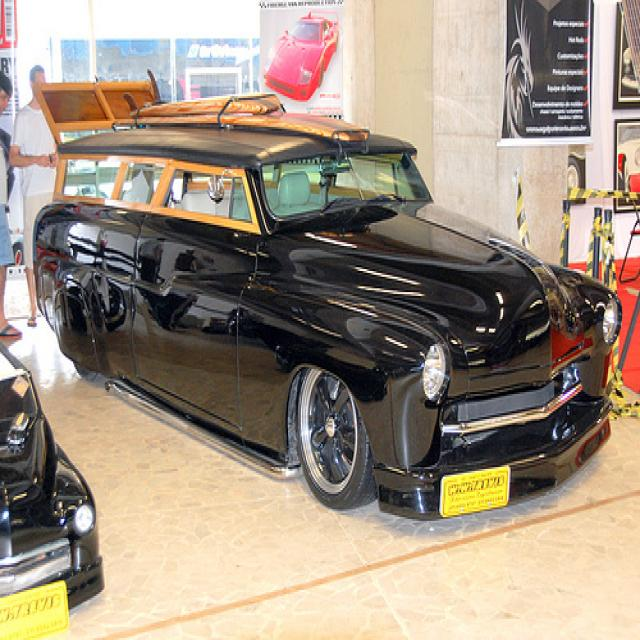Vehicle: (36, 110, 620, 514), (1, 344, 101, 600)
